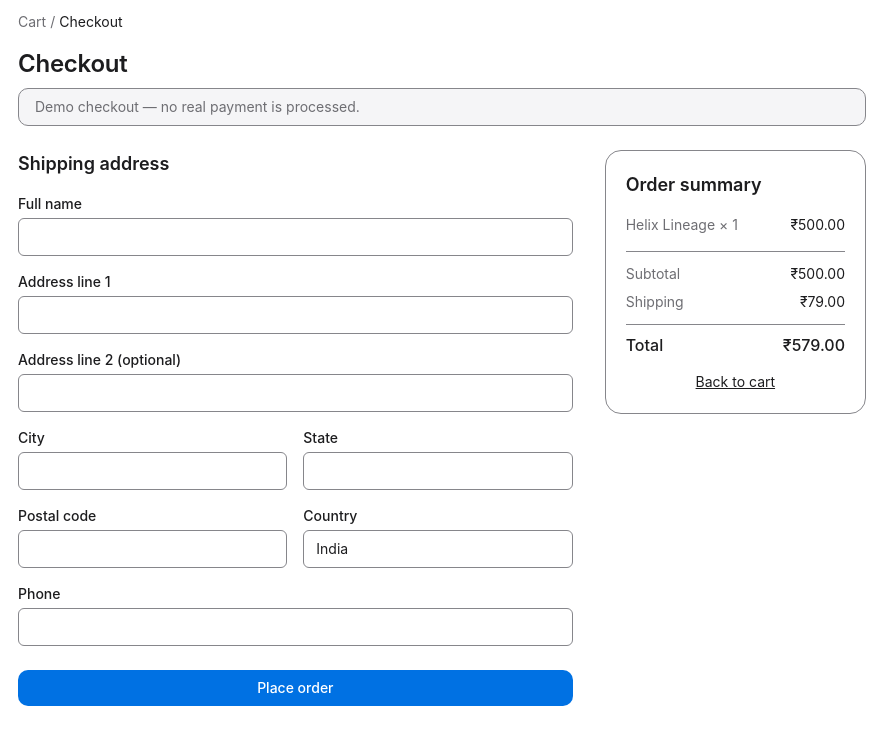
Test case: CheckoutPage › shows a server error message without navigating on failure
Type "Priya Sharma" into the field labelled "Full name".
click(295, 237); type("Priya Sharma")  # box x1=18 y1=218 x2=573 y2=256
Type "221B Baker Street" into the field labelled "Address line 1".
click(295, 315); type("221B Baker Street")  # box x1=18 y1=296 x2=573 y2=334
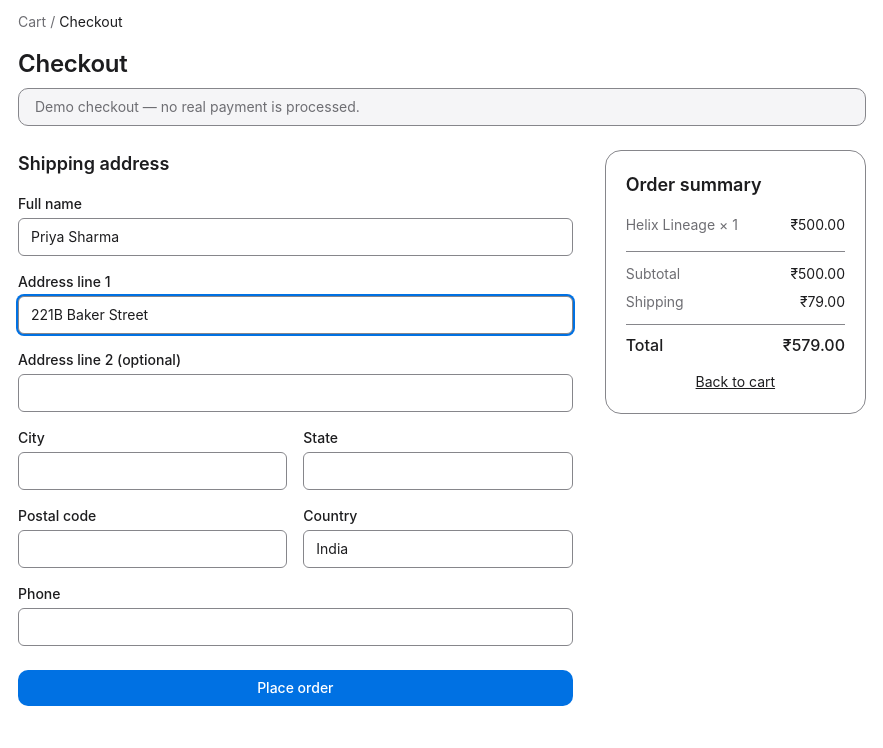
Type "Mumbai" into the field labelled "City".
click(153, 471); type("Mumbai")  # box x1=18 y1=452 x2=287 y2=490
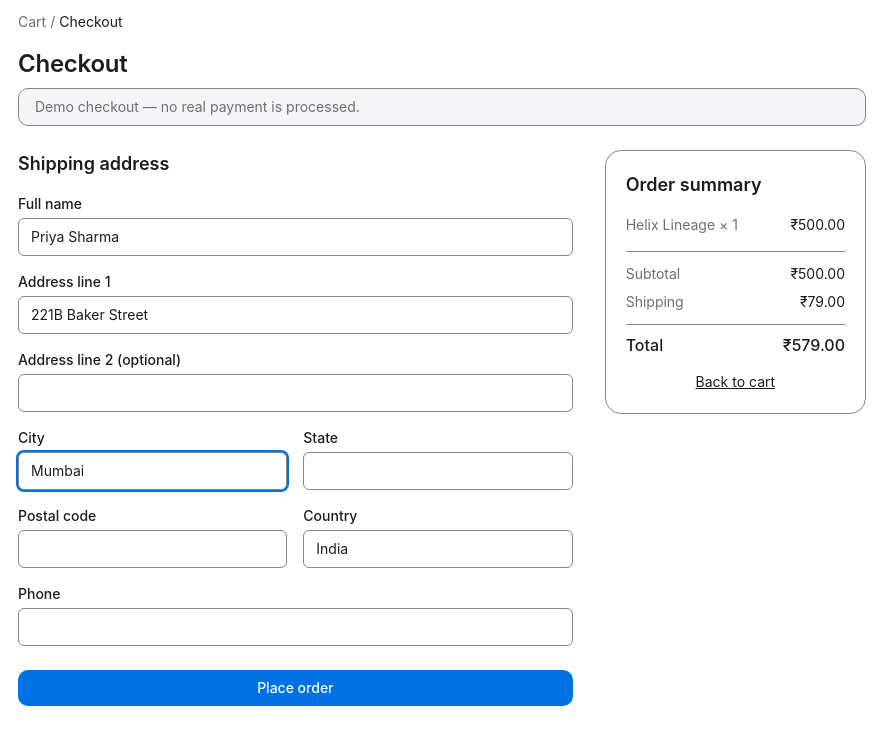
Type "Maharashtra" into the field labelled "State".
click(438, 471); type("Maharashtra")  # box x1=303 y1=452 x2=573 y2=490
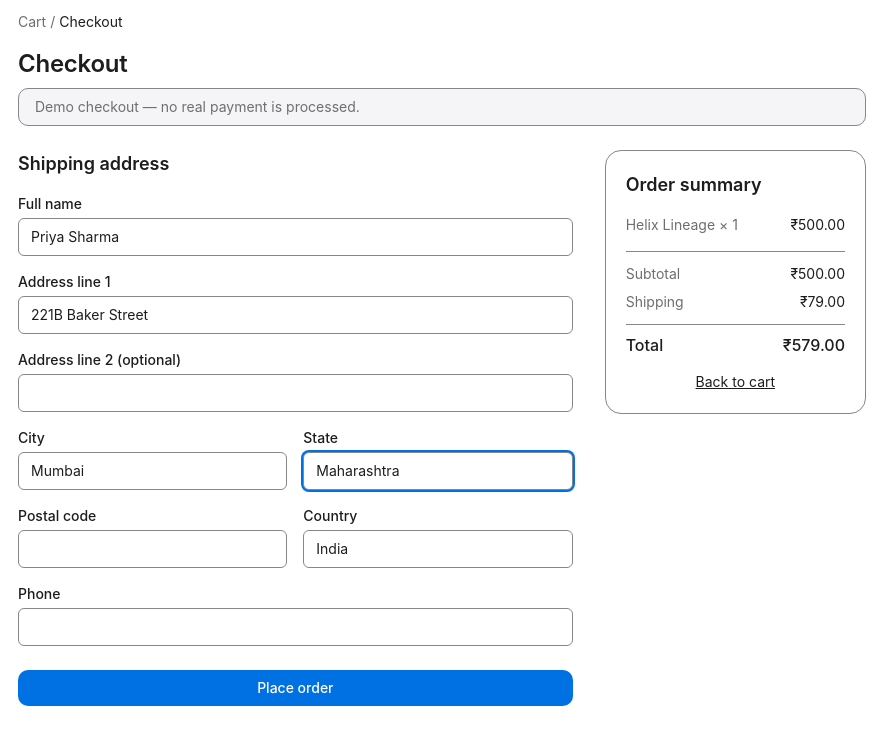
Type "400001" into the field labelled "Postal code".
click(153, 549); type("400001")  # box x1=18 y1=530 x2=287 y2=568
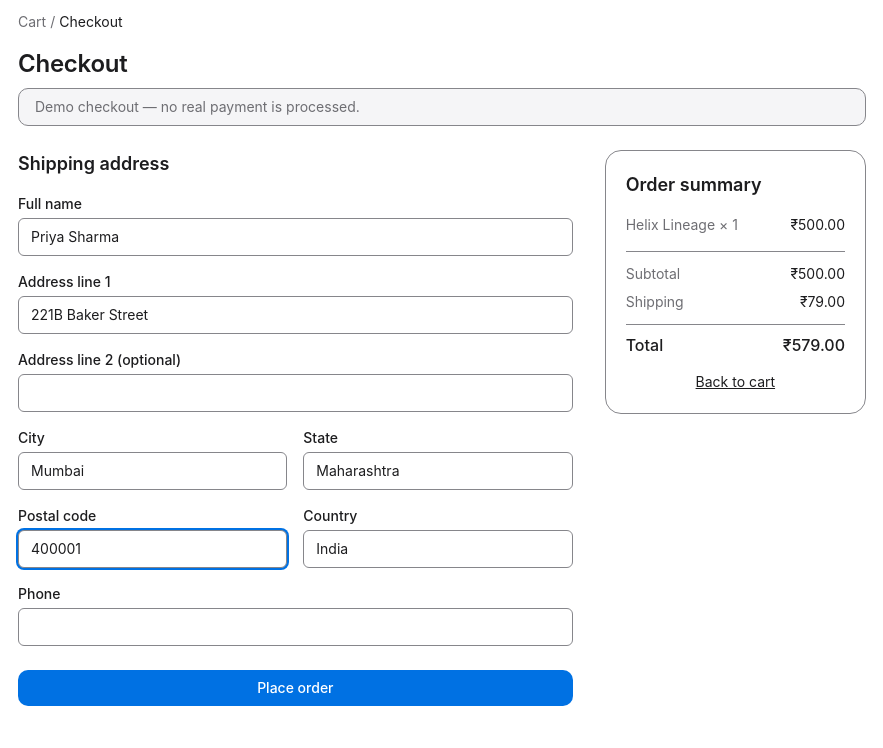
Type "9876543210" into the field labelled "Phone".
click(295, 627); type("9876543210")  # box x1=18 y1=608 x2=573 y2=646
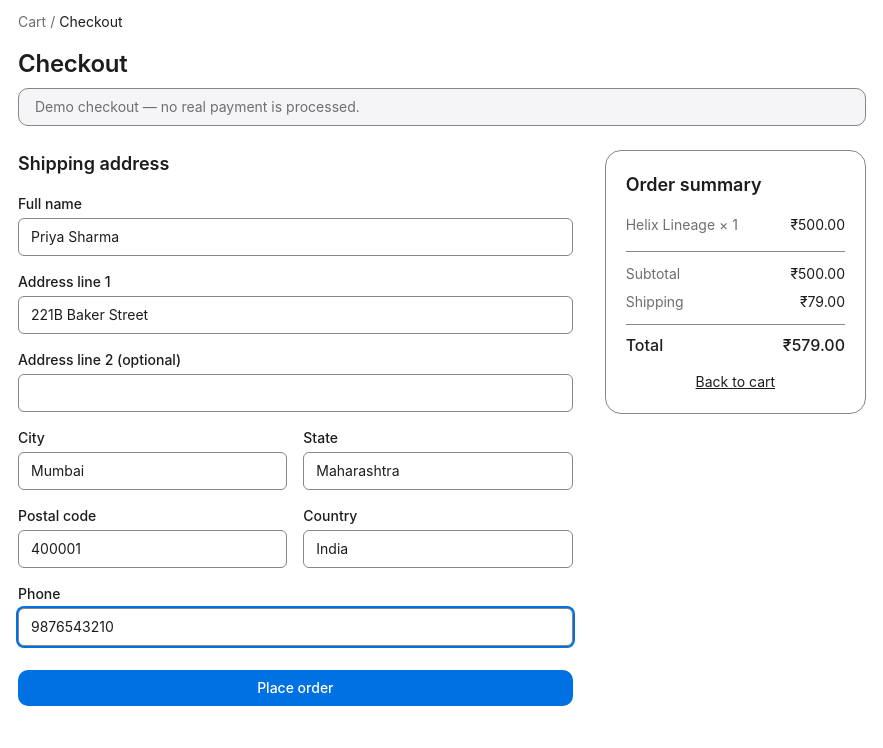
Click the button "Place order".
click(295, 688)  # box x1=18 y1=670 x2=573 y2=706
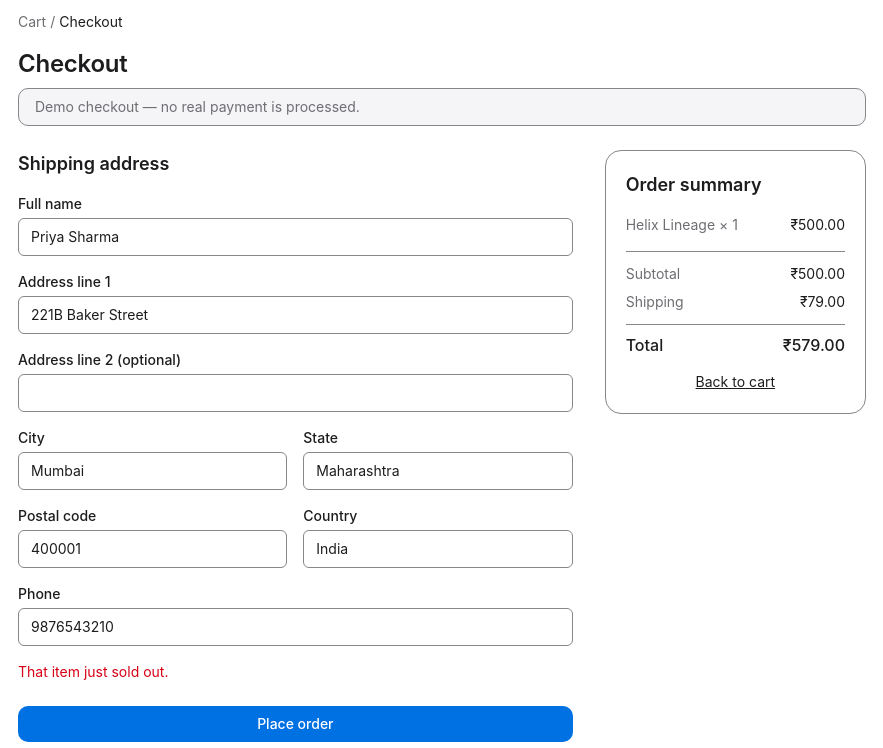
Expected: the text "That item just sold out." is shown, x1=18 y1=663 x2=168 y2=680
